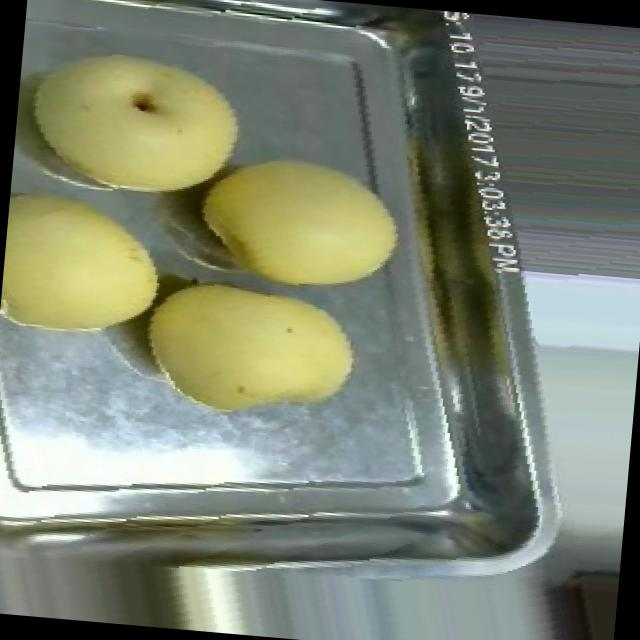Fruit: (10, 27, 266, 218), (122, 250, 376, 440), (175, 128, 425, 314), (0, 172, 182, 358)
